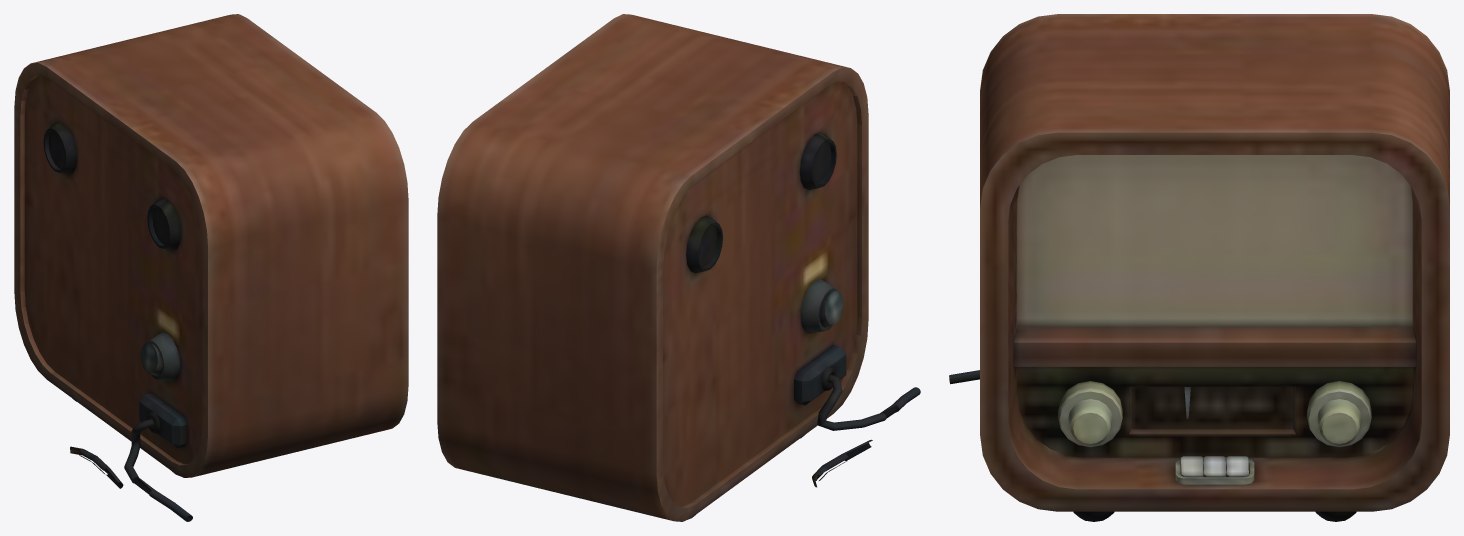
The model's file is radio.glb.
The picture shows the model from 3 angles, left to right: view 1: azimuth 30°, elevation 25°; view 2: azimuth 150°, elevation 25°; view 3: azimuth 270°, elevation 25°; orthographic projection. The views are drawn at different scales.
Visible parts, largest first — view 1: Object_2; view 2: Object_2; view 3: Object_2.
Part boxes in pixels (left/top/right/bottom): Object_2: left=14, top=14, right=408, bottom=521; Object_2: left=437, top=14, right=920, bottom=521; Object_2: left=949, top=14, right=1449, bottom=521.
Size of the model in its own units: 0.8285 by 1.05 by 1.2.
Materials: 1 (1 with a texture image).
